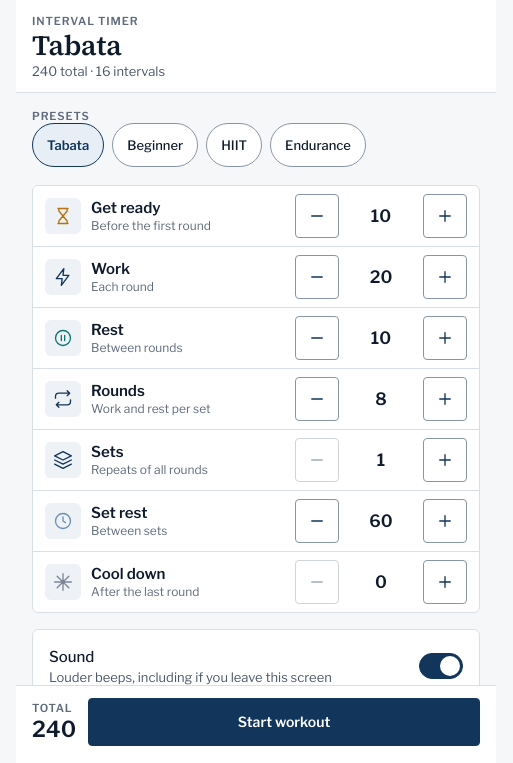
it: app › jumps to the right interval when the page returns
Click the button "Start workout" at {"x": 284, "y": 722}, box x1=88 y1=698 x2=480 y2=746
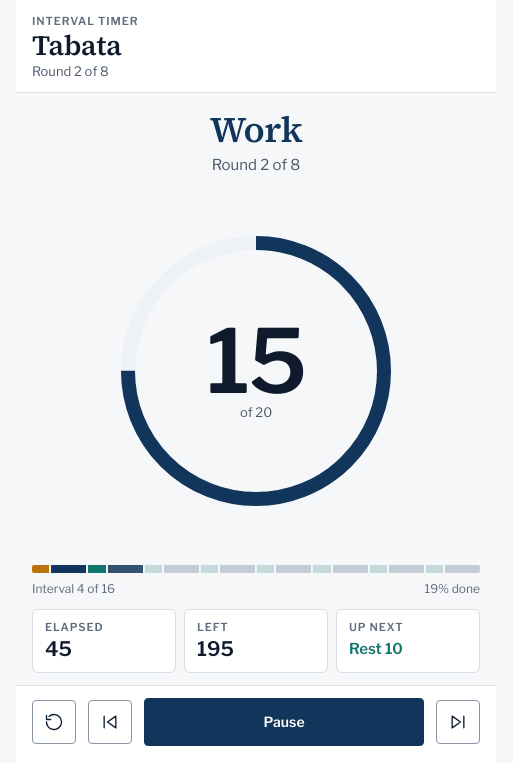
expect the heading "Work" is shown: met, box x1=210 y1=109 x2=302 y2=150
expect the text "Round 2 of 8" below "Tabata" is shown: met, box x1=32 y1=63 x2=109 y2=79
expect the text "15" is shown: met, box x1=207 y1=320 x2=305 y2=404
